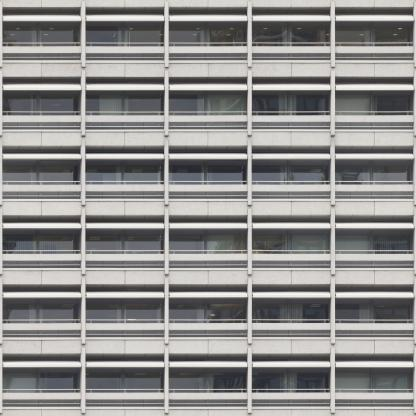Building Outline: (1, 0, 416, 415)
Facade: (1, 1, 416, 415)
Floor: (0, 133, 416, 199), (0, 203, 416, 269), (0, 272, 416, 338), (0, 342, 416, 407), (0, 0, 416, 64), (0, 67, 416, 130)
Floor Slab: (0, 407, 416, 411), (0, 64, 416, 68), (0, 130, 416, 134), (0, 199, 416, 203), (0, 268, 416, 272), (0, 338, 416, 342)
Pillar: (81, 209, 86, 275), (81, 278, 86, 344), (164, 209, 169, 275), (164, 278, 169, 344), (331, 209, 336, 275), (331, 278, 336, 344), (81, 348, 86, 413), (81, 2, 86, 67), (81, 71, 86, 136), (81, 140, 86, 205), (164, 348, 169, 413), (164, 2, 169, 67), (164, 71, 169, 136), (164, 140, 169, 205), (331, 348, 336, 413), (331, 2, 336, 67), (331, 71, 336, 136), (331, 140, 336, 205), (248, 209, 252, 275), (248, 278, 252, 344), (248, 348, 252, 413), (248, 2, 252, 67), (248, 71, 252, 136), (248, 140, 252, 205), (413, 1, 416, 67), (413, 70, 416, 136), (413, 139, 416, 205), (0, 209, 2, 275), (0, 278, 2, 344), (414, 209, 416, 275), (414, 278, 416, 344), (0, 348, 2, 413), (0, 2, 2, 67), (0, 71, 2, 136), (0, 140, 2, 205), (414, 348, 415, 414)
Window: (335, 353, 414, 407), (335, 76, 414, 130), (335, 145, 414, 199), (335, 284, 414, 338), (2, 353, 81, 407), (2, 76, 81, 130), (2, 145, 81, 199), (2, 284, 81, 338), (86, 353, 165, 407), (86, 76, 165, 130), (86, 145, 165, 199), (86, 284, 165, 338), (169, 353, 248, 407), (169, 76, 248, 130), (169, 145, 248, 199), (169, 284, 248, 338), (252, 353, 331, 407), (252, 76, 331, 130), (252, 145, 331, 199), (252, 284, 331, 338), (335, 7, 414, 60), (335, 215, 414, 268), (2, 7, 81, 60), (2, 215, 81, 268), (86, 7, 165, 60), (86, 215, 165, 268), (169, 7, 248, 60), (169, 215, 248, 268), (252, 7, 331, 60), (252, 215, 331, 268), (373, 372, 411, 393), (40, 372, 78, 393), (40, 165, 78, 186), (374, 165, 411, 186), (125, 372, 162, 393), (207, 372, 244, 393), (207, 165, 244, 186), (290, 372, 327, 393), (290, 165, 327, 186), (40, 26, 78, 46), (40, 95, 78, 115), (40, 235, 78, 255), (40, 304, 78, 324), (290, 26, 328, 46), (290, 95, 328, 115), (290, 235, 328, 255), (290, 304, 328, 324), (125, 165, 161, 186), (374, 26, 411, 46), (374, 95, 411, 115), (374, 235, 411, 255), (374, 304, 411, 324), (125, 26, 162, 46), (125, 95, 162, 115), (125, 235, 162, 255), (124, 304, 161, 324), (207, 26, 244, 46), (207, 95, 244, 115), (207, 235, 244, 255), (207, 304, 244, 324), (335, 372, 370, 393), (335, 165, 370, 186), (86, 372, 121, 393), (86, 165, 121, 186), (169, 372, 204, 393), (169, 165, 204, 186), (252, 372, 287, 393), (252, 165, 287, 186), (86, 26, 122, 46), (86, 235, 122, 255), (3, 372, 37, 393), (3, 165, 37, 186), (335, 26, 370, 46), (335, 95, 370, 115), (335, 235, 370, 255), (335, 304, 370, 324), (86, 95, 121, 115), (86, 304, 121, 324), (169, 26, 204, 46), (169, 95, 204, 115), (169, 235, 204, 255), (169, 304, 204, 324), (252, 26, 287, 46), (252, 95, 287, 115), (252, 235, 287, 255), (252, 304, 287, 324), (3, 26, 37, 46), (3, 95, 37, 115), (3, 235, 37, 255), (3, 304, 37, 324)
